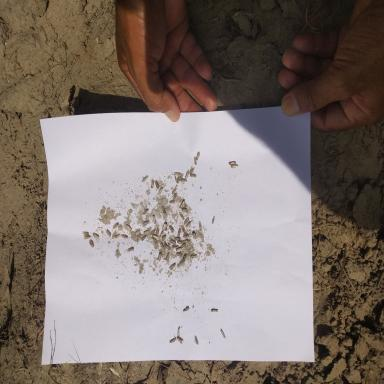pbw: (169, 333, 177, 343), (125, 223, 133, 233), (111, 230, 119, 240), (91, 232, 100, 240), (188, 165, 195, 175), (220, 328, 226, 339), (184, 169, 190, 180), (168, 262, 176, 270), (176, 336, 184, 344), (190, 253, 199, 260), (171, 184, 177, 194), (161, 206, 167, 216), (126, 245, 134, 252), (176, 260, 183, 268), (177, 223, 181, 237), (134, 228, 141, 236), (195, 151, 200, 162), (106, 227, 111, 238), (179, 200, 185, 209), (162, 222, 168, 231), (157, 186, 163, 195), (154, 180, 160, 189), (165, 251, 170, 261), (181, 224, 186, 234), (89, 238, 94, 248), (152, 234, 159, 241), (112, 222, 119, 229), (142, 208, 149, 215), (164, 243, 171, 250), (171, 192, 177, 200), (83, 234, 91, 240), (150, 228, 156, 236), (142, 175, 148, 183), (182, 306, 190, 312), (168, 225, 174, 233), (143, 220, 151, 226), (160, 242, 165, 251), (184, 216, 189, 225), (158, 251, 162, 262), (169, 238, 176, 244), (140, 234, 146, 241), (177, 239, 184, 245), (114, 232, 121, 238), (185, 221, 191, 228), (152, 237, 158, 244), (182, 233, 190, 238), (210, 307, 218, 312), (179, 172, 184, 180), (182, 253, 186, 263), (228, 160, 236, 165), (194, 335, 198, 345), (182, 198, 186, 208), (156, 226, 160, 235), (152, 215, 156, 224), (160, 230, 164, 239), (136, 233, 140, 242), (176, 175, 180, 184), (231, 164, 238, 169), (183, 238, 190, 243), (179, 212, 184, 219), (172, 244, 179, 249), (199, 220, 202, 231), (151, 178, 154, 189), (177, 326, 180, 337), (180, 178, 188, 182), (162, 251, 166, 259), (174, 236, 180, 241), (180, 243, 186, 248), (182, 208, 188, 213), (192, 233, 197, 239), (176, 251, 182, 256), (212, 214, 215, 224), (162, 234, 166, 241), (82, 231, 89, 235), (121, 234, 128, 238), (143, 230, 150, 234), (161, 198, 168, 202), (98, 218, 105, 222), (170, 200, 176, 204), (190, 174, 196, 178), (176, 247, 182, 251), (174, 172, 180, 176), (101, 214, 107, 218), (194, 156, 196, 165), (111, 211, 114, 216), (175, 176, 177, 183)
